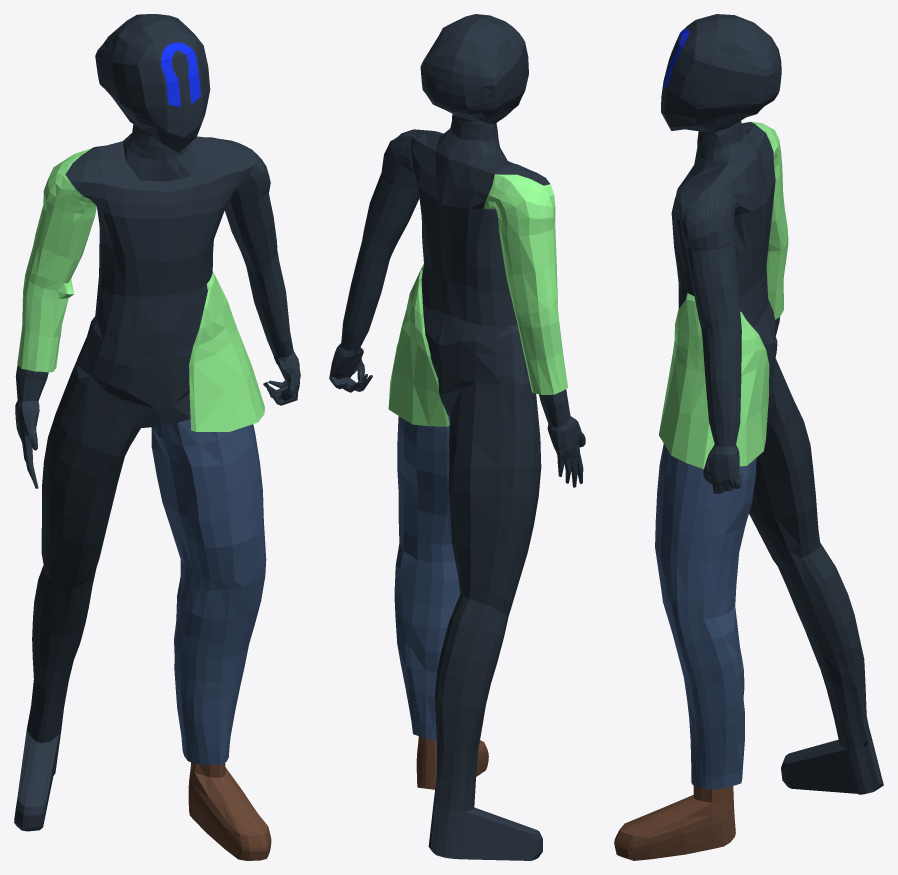
The model's file is Mar_Recover_000018.obj.
3 views of the same model, side by side, from view 1: azimuth 30°, elevation 25°; view 2: azimuth 150°, elevation 25°; view 3: azimuth 270°, elevation 25° (orthographic). The views are drawn at different scales.
Parts seen in each view (by area): view 1: Cube.000_Cube.001; view 2: Cube.000_Cube.001; view 3: Cube.000_Cube.001.
Part boxes in pixels (left/top/right/bottom): Cube.000_Cube.001: left=14, top=14, right=300, bottom=860; Cube.000_Cube.001: left=329, top=14, right=585, bottom=860; Cube.000_Cube.001: left=614, top=14, right=883, bottom=860.
Size of the model in its own units: 1.34 by 3.96 by 1.2.
